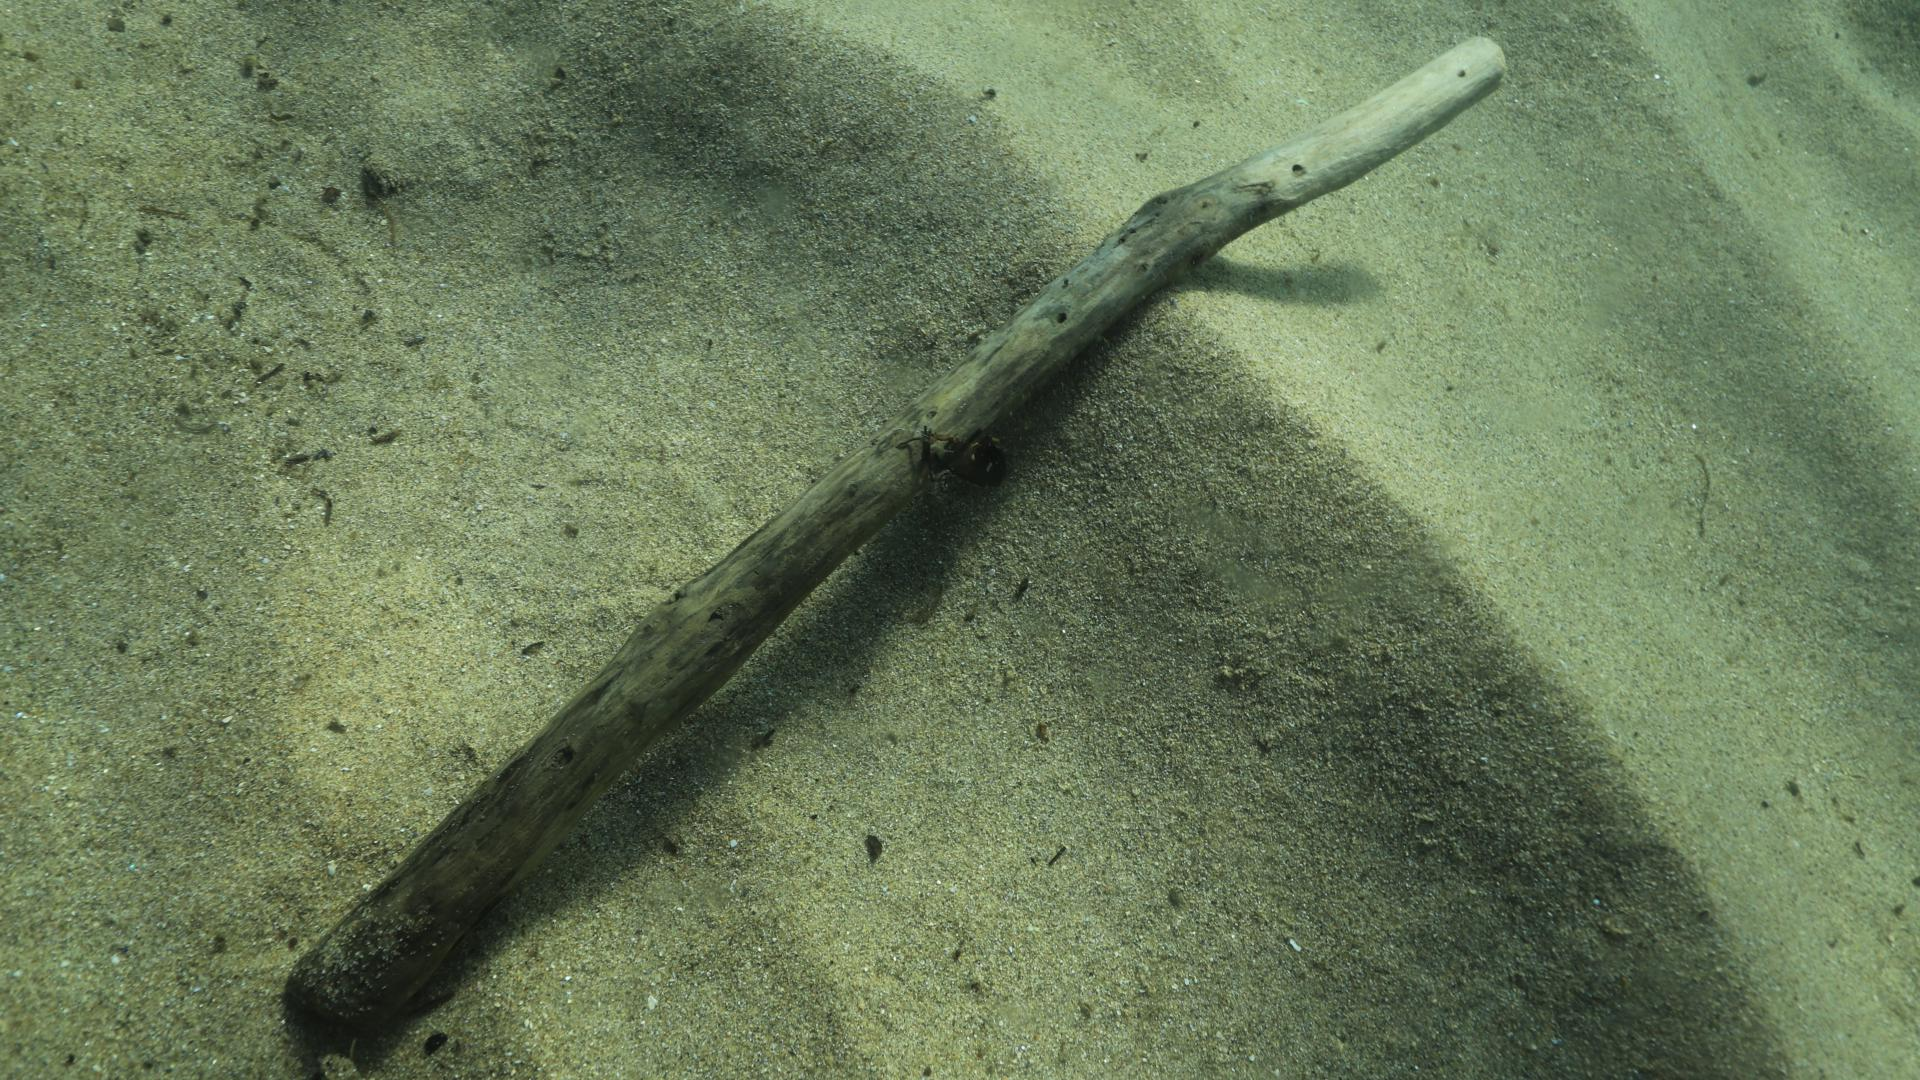wood: (276, 33, 1505, 1043)
